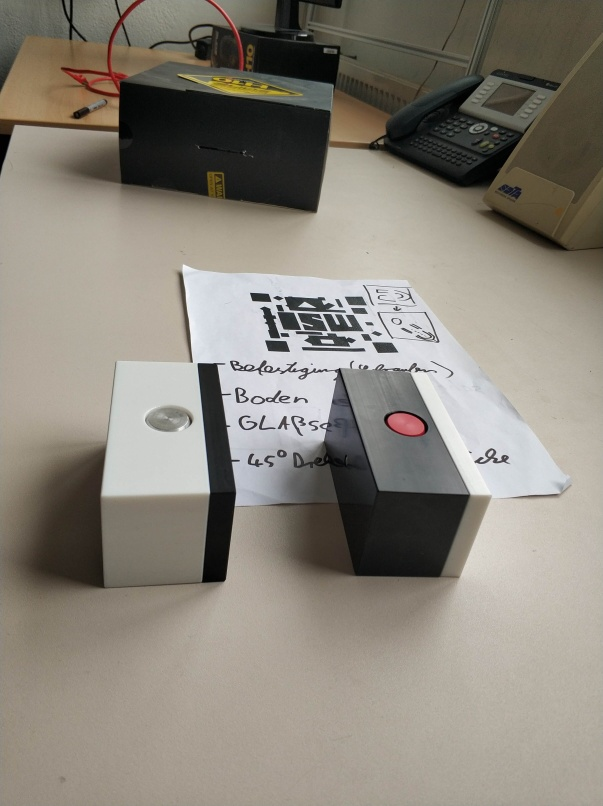black+white+silver: (97, 358, 238, 590)
white+black+red: (320, 365, 494, 582)
